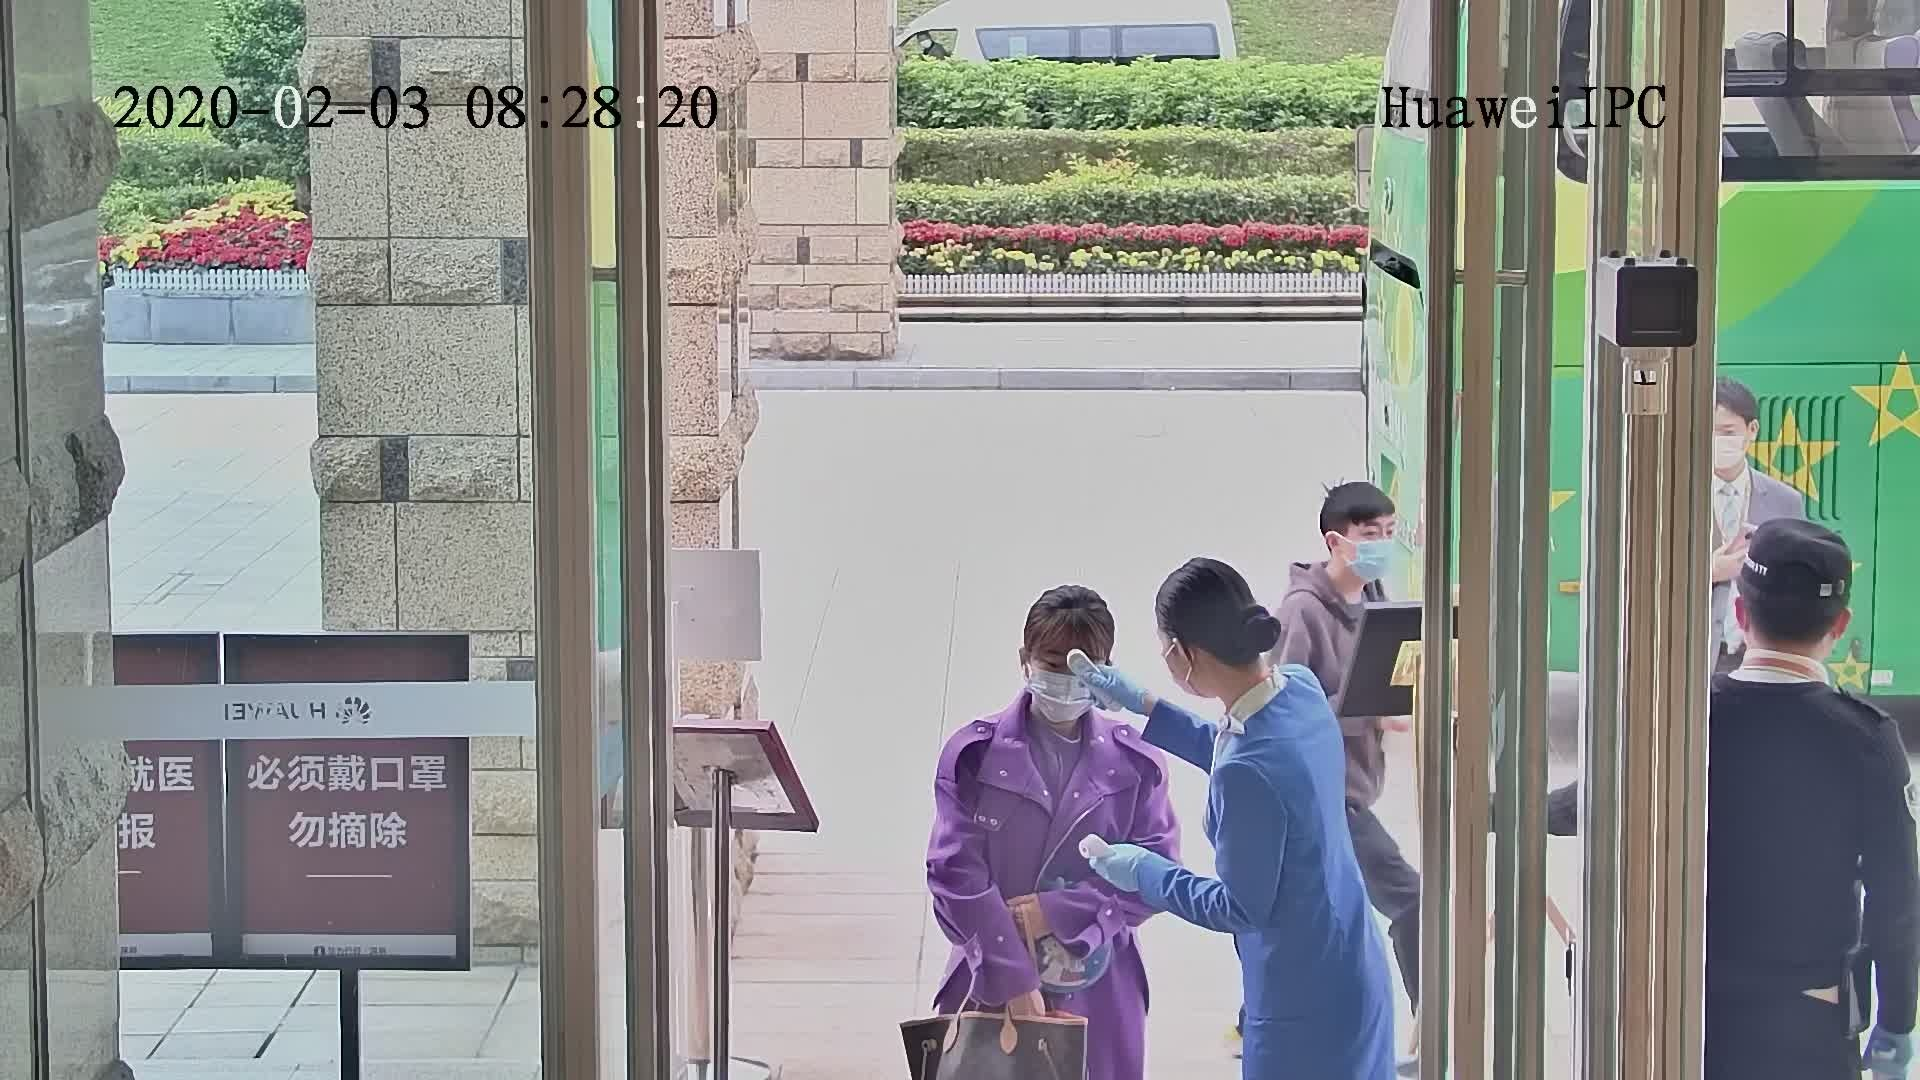face: (1029, 638, 1103, 726), (1338, 515, 1405, 582), (1714, 400, 1747, 478)
mask: (1027, 666, 1096, 724), (1349, 538, 1405, 586), (1718, 429, 1756, 478)
person: (1148, 545, 1342, 811), (1709, 514, 1895, 774), (948, 575, 1158, 795), (1281, 477, 1404, 640), (1704, 381, 1790, 517)
